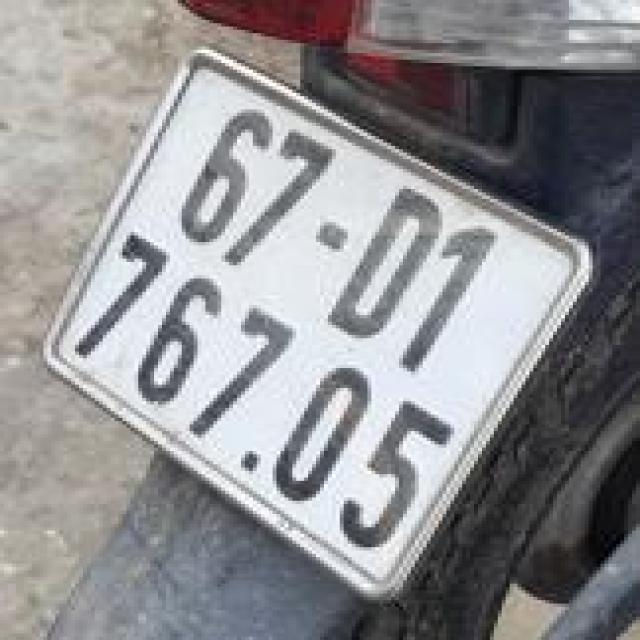0: (235, 353, 395, 523)
1: (375, 218, 512, 391)
5: (305, 390, 476, 561)
6: (108, 261, 256, 416), (150, 101, 296, 254)
7: (210, 123, 368, 279), (161, 300, 319, 446), (52, 206, 183, 379)
D: (286, 163, 464, 354)
